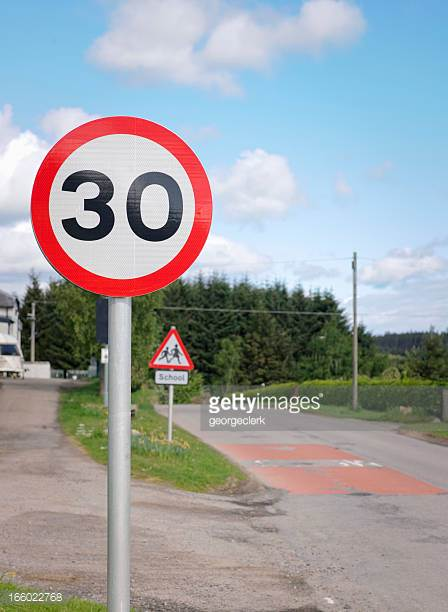Speed_limit_30km: (31, 115, 214, 298)
